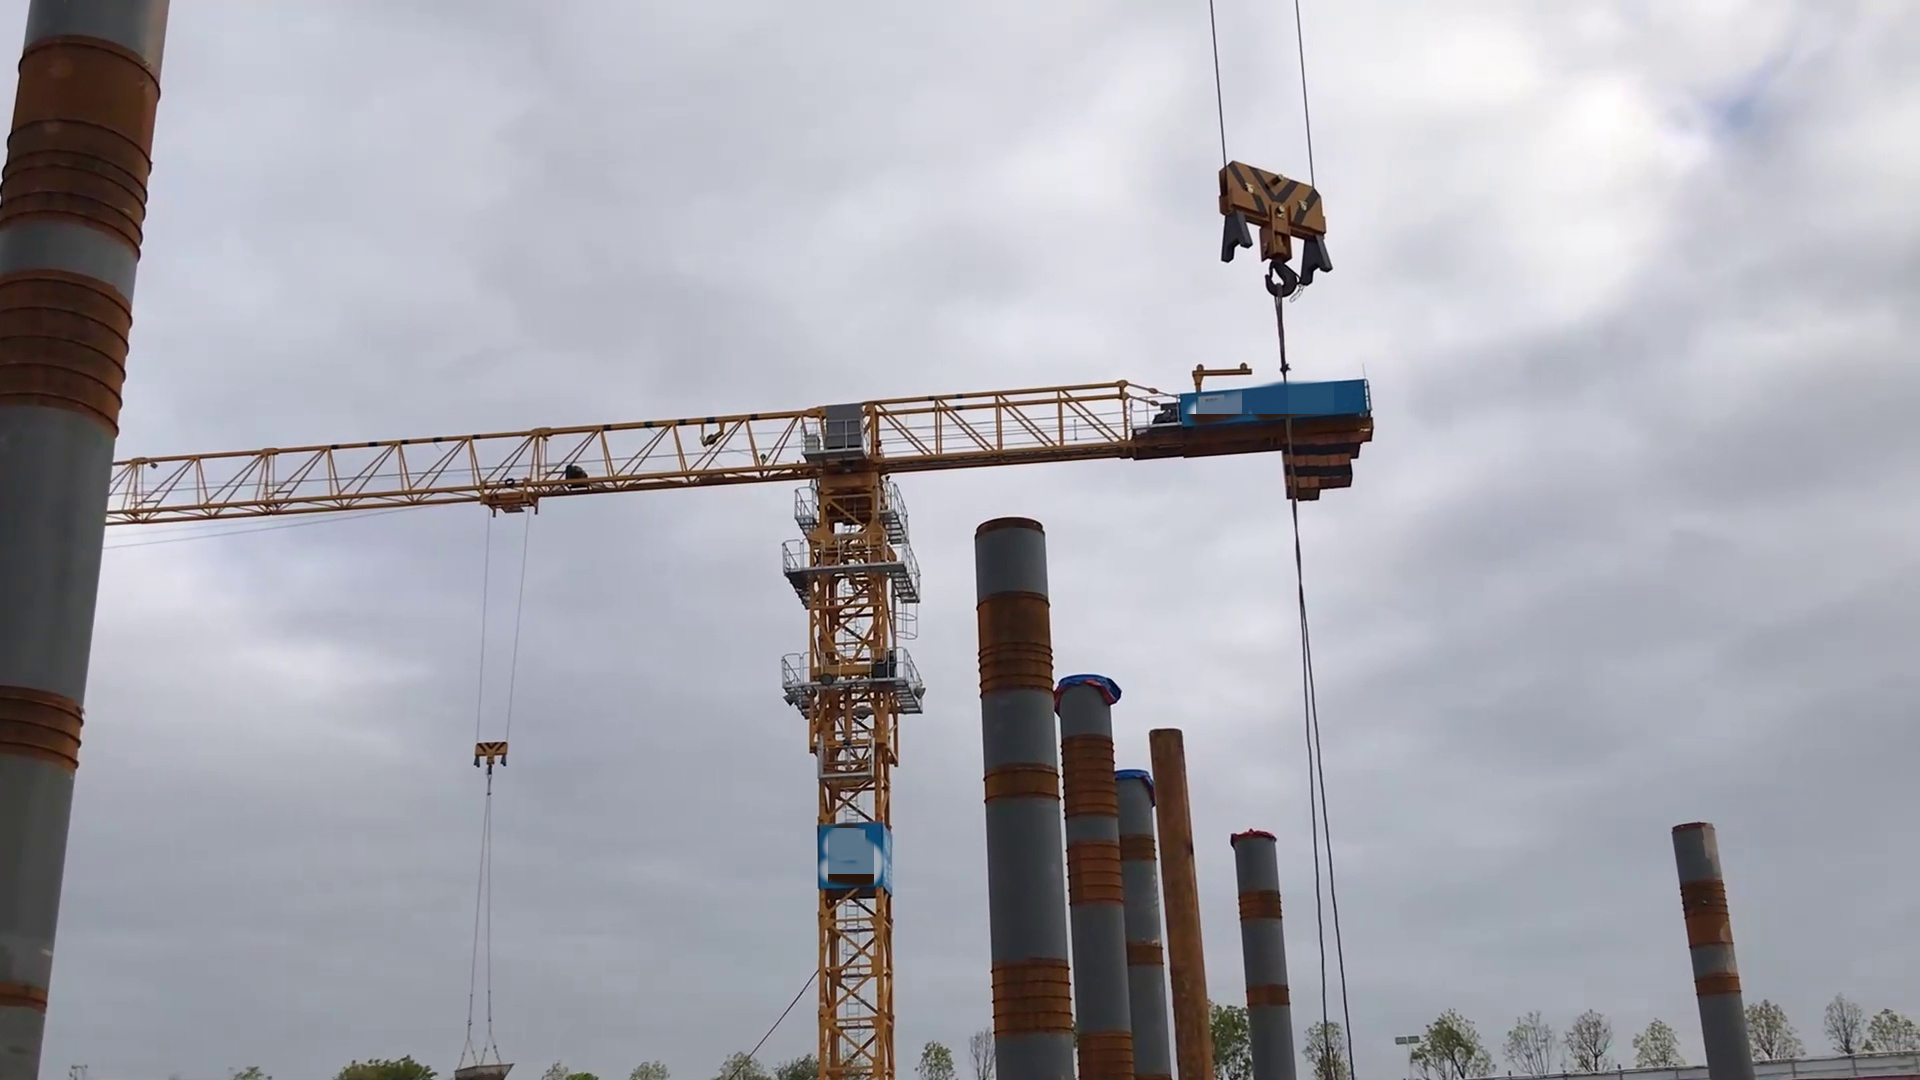hook: (1215, 148, 1342, 306), (471, 738, 512, 779)
